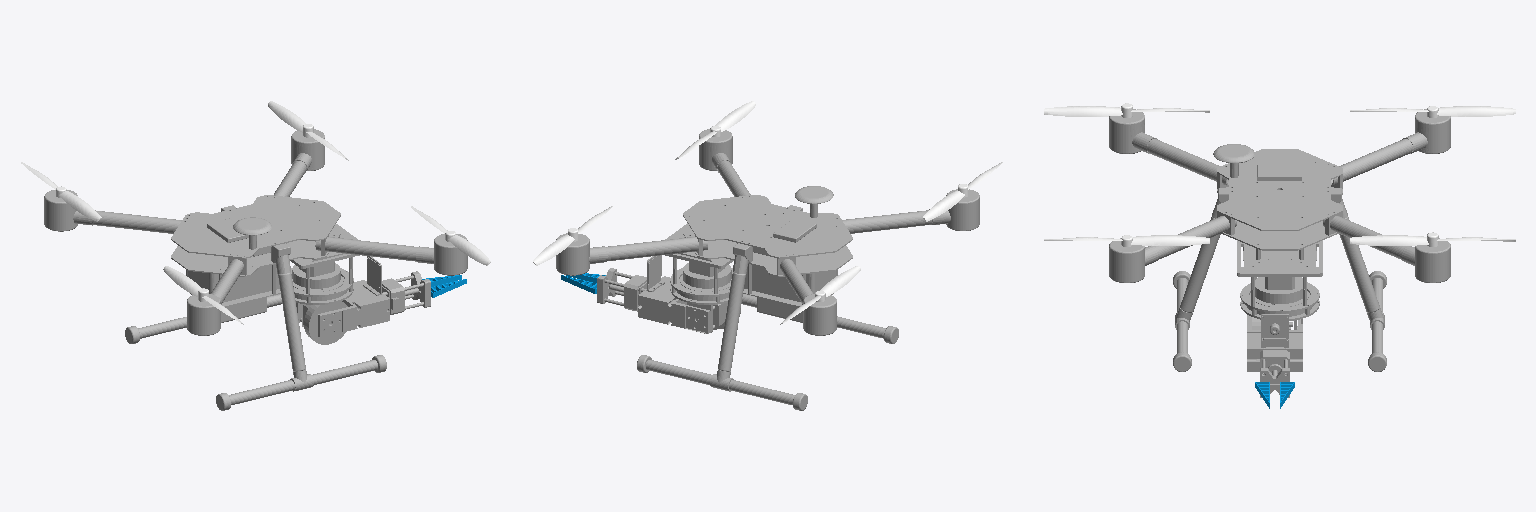
The robot description file, URDF, robot "uam_v4":
<?xml version="1.0" encoding="utf-8"?>
<!-- This URDF was automatically created by SolidWorks to URDF Exporter! Originally created by Stephen Brawner (brawner@gmail.com) 
     Commit Version: 1.6.0-4-g7f85cfe  Build Version: 1.6.7995.38578
     For more information, please see http://wiki.ros.org/sw_urdf_exporter -->
<robot
  name="uam_v4">
  <link
    name="base_link">
    <inertial>
      <origin
        xyz="0.00974829 -0.00025168 0.14863582"
        rpy="0 0 0" />
      <mass
        value="3.4891734" />
      <inertia
        ixx="0.043079"
        ixy="-0.00014081"
        ixz="0.00104499"
        iyy="0.04976704"
        iyz="0.00015485"
        izz="0.07279102" />
    </inertial>
    <visual>
      <origin
        xyz="0 0 0"
        rpy="0 0 0" />
      <geometry>
        <mesh
          filename="package://uam_v4/meshes/base_link.STL" />
      </geometry>
      <material
        name="">
        <color
          rgba="0.752941176470588 0.752941176470588 0.752941176470588 1" />
      </material>
    </visual>
    <collision>
      <origin
        xyz="0 0 0"
        rpy="0 0 0" />
      <geometry>
        <mesh
          filename="package://uam_v4/meshes/base_link.STL" />
      </geometry>
    </collision>
  </link>
  <link
    name="rotor_0">
    <inertial>
      <origin
        xyz="0 0 0.00774541"
        rpy="0 0 0" />
      <mass
        value="0.013" />
      <inertia
        ixx="4.374e-05"
        ixy="-4.7e-07"
        ixz="0"
        iyy="2.6e-07"
        iyz="0"
        izz="4.387e-05" />
    </inertial>
    <visual>
      <origin
        xyz="0 0 0"
        rpy="0 0 0" />
      <geometry>
        <mesh
          filename="package://uam_v4/meshes/rotor_0.STL" />
      </geometry>
      <material
        name="">
        <color
          rgba="1 1 1 1" />
      </material>
    </visual>
    <collision>
      <origin
        xyz="0 0 0"
        rpy="0 0 0" />
      <geometry>
        <mesh
          filename="package://uam_v4/meshes/rotor_0.STL" />
      </geometry>
    </collision>
  </link>
  <joint
    name="rotor_0_joint"
    type="continuous">
    <origin
      xyz="0.211683740803308 -0.211683740803383 0.228940602850063"
      rpy="0 0 0" />
    <parent
      link="base_link" />
    <child
      link="rotor_0" />
    <axis
      xyz="0 0 1" />
  </joint>
  <link
    name="rotor_1">
    <inertial>
      <origin
        xyz="0 0 0.00774541"
        rpy="0 0 0" />
      <mass
        value="0.013" />
      <inertia
        ixx="4.374e-05"
        ixy="-4.7e-07"
        ixz="0"
        iyy="2.6e-07"
        iyz="0"
        izz="4.387e-05" />
    </inertial>
    <visual>
      <origin
        xyz="0 0 0"
        rpy="0 0 0" />
      <geometry>
        <mesh
          filename="package://uam_v4/meshes/rotor_1.STL" />
      </geometry>
      <material
        name="">
        <color
          rgba="1 1 1 1" />
      </material>
    </visual>
    <collision>
      <origin
        xyz="0 0 0"
        rpy="0 0 0" />
      <geometry>
        <mesh
          filename="package://uam_v4/meshes/rotor_1.STL" />
      </geometry>
    </collision>
  </link>
  <joint
    name="rotor_1_joint"
    type="continuous">
    <origin
      xyz="-0.21168374080335 0.211683740803422 0.228940602850063"
      rpy="0 0 0" />
    <parent
      link="base_link" />
    <child
      link="rotor_1" />
    <axis
      xyz="0 0 1" />
  </joint>
  <link
    name="rotor_2">
    <inertial>
      <origin
        xyz="0 0 0.00794549"
        rpy="0 0 0" />
      <mass
        value="0.013" />
      <inertia
        ixx="4.274e-05"
        ixy="4.8e-07"
        ixz="0"
        iyy="2.8e-07"
        iyz="0"
        izz="4.286e-05" />
    </inertial>
    <visual>
      <origin
        xyz="0 0 0"
        rpy="0 0 0" />
      <geometry>
        <mesh
          filename="package://uam_v4/meshes/rotor_2.STL" />
      </geometry>
      <material
        name="">
        <color
          rgba="1 1 1 1" />
      </material>
    </visual>
    <collision>
      <origin
        xyz="0 0 0"
        rpy="0 0 0" />
      <geometry>
        <mesh
          filename="package://uam_v4/meshes/rotor_2.STL" />
      </geometry>
    </collision>
  </link>
  <joint
    name="rotor_2_joint"
    type="continuous">
    <origin
      xyz="0.211683740803408 0.211683740803337 0.228940602850063"
      rpy="0 0 0" />
    <parent
      link="base_link" />
    <child
      link="rotor_2" />
    <axis
      xyz="0 0 1" />
  </joint>
  <link
    name="rotor_3">
    <inertial>
      <origin
        xyz="0 0 0.00794549"
        rpy="0 0 0" />
      <mass
        value="0.013" />
      <inertia
        ixx="4.274e-05"
        ixy="4.8e-07"
        ixz="0"
        iyy="2.8e-07"
        iyz="0"
        izz="4.286e-05" />
    </inertial>
    <visual>
      <origin
        xyz="0 0 0"
        rpy="0 0 0" />
      <geometry>
        <mesh
          filename="package://uam_v4/meshes/rotor_3.STL" />
      </geometry>
      <material
        name="">
        <color
          rgba="1 1 1 1" />
      </material>
    </visual>
    <collision>
      <origin
        xyz="0 0 0"
        rpy="0 0 0" />
      <geometry>
        <mesh
          filename="package://uam_v4/meshes/rotor_3.STL" />
      </geometry>
    </collision>
  </link>
  <joint
    name="rotor_3_joint"
    type="continuous">
    <origin
      xyz="-0.211683740803383 -0.211683740803297 0.228940602850063"
      rpy="0 0 0" />
    <parent
      link="base_link" />
    <child
      link="rotor_3" />
    <axis
      xyz="0 0 1" />
  </joint>
  <link
    name="arm_link1">
    <inertial>
      <origin
        xyz="5.432e-05 0.0085306 0.03916253"
        rpy="0 0 0" />
      <mass
        value="0.22527292" />
      <inertia
        ixx="0.00020971"
        ixy="5e-08"
        ixz="-1.7e-07"
        iyy="0.00019995"
        iyz="-2.66e-05"
        izz="0.0001501" />
    </inertial>
    <visual>
      <origin
        xyz="0 0 0"
        rpy="0 0 0" />
      <geometry>
        <mesh
          filename="package://uam_v4/meshes/arm_link1.STL" />
      </geometry>
      <material
        name="">
        <color
          rgba="0.752941176470588 0.752941176470588 0.752941176470588 1" />
      </material>
    </visual>
    <collision>
      <origin
        xyz="0 0 0"
        rpy="0 0 0" />
      <geometry>
        <mesh
          filename="package://uam_v4/meshes/arm_link1.STL" />
      </geometry>
    </collision>
  </link>
  <joint
    name="arm_joint1"
    type="continuous">
    <origin
      xyz="0.103999999999998 0 0.101940602850063"
      rpy="3.14159265358979 0 0" />
    <parent
      link="base_link" />
    <child
      link="arm_link1" />
    <axis
      xyz="0 0 1" />
  </joint>
  <link
    name="arm_link2">
    <inertial>
      <origin
        xyz="0.08975405 -3.994e-05 0.00717595"
        rpy="0 0 0" />
      <mass
        value="0.30418087" />
      <inertia
        ixx="0.00016138"
        ixy="1.6e-07"
        ixz="-1.36e-06"
        iyy="0.00060537"
        iyz="-3e-08"
        izz="0.00051523" />
    </inertial>
    <visual>
      <origin
        xyz="0 0 0"
        rpy="0 0 0" />
      <geometry>
        <mesh
          filename="package://uam_v4/meshes/arm_link2.STL" />
      </geometry>
      <material
        name="">
        <color
          rgba="0.752941176470588 0.752941176470588 0.752941176470588 1" />
      </material>
    </visual>
    <collision>
      <origin
        xyz="0 0 0"
        rpy="0 0 0" />
      <geometry>
        <mesh
          filename="package://uam_v4/meshes/arm_link2.STL" />
      </geometry>
    </collision>
  </link>
  <joint
    name="arm_joint2"
    type="continuous">
    <origin
      xyz="0 0 0.0529999999999987"
      rpy="-1.5707963267949 0 0" />
    <parent
      link="arm_link1" />
    <child
      link="arm_link2" />
    <axis
      xyz="0 0 1" />
  </joint>
  <link
    name="left_hand_link">
    <inertial>
      <origin
        xyz="0.02582393 -0.001  -0.00633685"
        rpy="0 0 0" />
      <mass
        value="0.00272625" />
      <inertia
        ixx="9e-08"
        ixy="0"
        ixz="-1.2e-07"
        iyy="9.2e-07"
        iyz="0"
        izz="8.6e-07" />
    </inertial>
    <visual>
      <origin
        xyz="0 0 0"
        rpy="0 0 0" />
      <geometry>
        <mesh
          filename="package://uam_v4/meshes/left_hand_link.STL" />
      </geometry>
      <material
        name="">
        <color
          rgba="0.0588235294117647 0.705882352941176 1 1" />
      </material>
    </visual>
    <collision>
      <origin
        xyz="0 0 0"
        rpy="0 0 0" />
      <geometry>
        <mesh
          filename="package://uam_v4/meshes/left_hand_link.STL" />
      </geometry>
    </collision>
  </link>
  <joint
    name="left_hand_joint"
    type="prismatic">
    <origin
      xyz="0.18 0.001 -0.0005"
      rpy="0 0 0" />
    <parent
      link="arm_link2" />
    <child
      link="left_hand_link" />
    <axis
      xyz="0 0 1" />
    <limit
      lower="-0.01"
      upper="0.01"
      effort="0"
      velocity="0" />
    <mimic
      joint="right_hand_joint"
      multiplier="-1"
      offset="0" />
  </joint>
  <link
    name="right_hand_link">
    <inertial>
      <origin
        xyz="0.02582393 -0.001 0.00633685"
        rpy="0 0 0" />
      <mass
        value="0.00272625" />
      <inertia
        ixx="9e-08"
        ixy="0"
        ixz="1.2e-07"
        iyy="9.2e-07"
        iyz="0"
        izz="8.6e-07" />
    </inertial>
    <visual>
      <origin
        xyz="0 0 0"
        rpy="0 0 0" />
      <geometry>
        <mesh
          filename="package://uam_v4/meshes/right_hand_link.STL" />
      </geometry>
      <material
        name="">
        <color
          rgba="0.0588235294117647 0.705882352941176 1 1" />
      </material>
    </visual>
    <collision>
      <origin
        xyz="0 0 0"
        rpy="0 0 0" />
      <geometry>
        <mesh
          filename="package://uam_v4/meshes/right_hand_link.STL" />
      </geometry>
    </collision>
  </link>
  <joint
    name="right_hand_joint"
    type="prismatic">
    <origin
      xyz="0.18 0.001 0.0145"
      rpy="0 0 0" />
    <parent
      link="arm_link2" />
    <child
      link="right_hand_link" />
    <axis
      xyz="0 0 1" />
    <limit
      lower="-0.01"
      upper="0.01"
      effort="0"
      velocity="0" />
  </joint>
  <link
    name="camera_link">
    <inertial>
      <origin
        xyz="0.00519631 0.02313883 0.00013606"
        rpy="0 0 0" />
      <mass
        value="0.0053179" />
      <inertia
        ixx="1.71e-06"
        ixy="-7e-08"
        ixz="0"
        iyy="6.4e-07"
        iyz="0"
        izz="1.17e-06" />
    </inertial>
    <visual>
      <origin
        xyz="0 0 0"
        rpy="0 0 0" />
      <geometry>
        <mesh
          filename="package://uam_v4/meshes/camera_link.STL" />
      </geometry>
      <material
        name="">
        <color
          rgba="0.752941176470588 0.752941176470588 0.752941176470588 1" />
      </material>
    </visual>
    <collision>
      <origin
        xyz="0 0 0"
        rpy="0 0 0" />
      <geometry>
        <mesh
          filename="package://uam_v4/meshes/camera_link.STL" />
      </geometry>
    </collision>
  </link>
  <joint
    name="camera_joint"
    type="fixed">
    <origin
      xyz="0.09 0.018 0.007"
      rpy="0 0 0" />
    <parent
      link="arm_link2" />
    <child
      link="camera_link" />
    <axis
      xyz="0 0 0" />
  </joint>
</robot>

--- Facts derived from the render (not from the file) ---
3 views of the same robot in one strip: view 1: azimuth 30°, elevation 25°; view 2: azimuth 150°, elevation 25°; view 3: azimuth 270°, elevation 25° (orthographic).
Model uam_v4 with 10 links and 9 joints (6 continuous, 2 prismatic, 1 fixed), rooted at base_link, posed all joints at 0.
Links seen in each view (by area): view 1: base_link, arm_link2, arm_link1, rotor_2, rotor_0, rotor_3, rotor_1, camera_link; view 2: base_link, arm_link2, arm_link1, rotor_2, rotor_3, rotor_0, rotor_1; view 3: base_link, arm_link2, rotor_3, rotor_2, rotor_1, rotor_0, camera_link.
Boxes of the visible links, <box> form: base_link: <box>44,129,467,410</box>; arm_link2: <box>318,271,430,337</box>; arm_link1: <box>292,276,347,344</box>; rotor_2: <box>268,101,348,160</box>; rotor_0: <box>411,206,490,265</box>; rotor_3: <box>163,266,243,324</box>; rotor_1: <box>21,162,101,221</box>; camera_link: <box>363,256,381,295</box>; base_link: <box>556,129,979,410</box>; arm_link2: <box>597,268,710,333</box>; arm_link1: <box>676,275,740,332</box>; rotor_2: <box>533,206,612,265</box>; rotor_3: <box>923,162,1002,221</box>; rotor_0: <box>675,101,755,159</box>; rotor_1: <box>780,266,860,324</box>; base_link: <box>1109,109,1450,371</box>; arm_link2: <box>1247,315,1302,397</box>; rotor_3: <box>1044,103,1209,117</box>; rotor_2: <box>1350,232,1515,246</box>; rotor_1: <box>1350,106,1515,117</box>; rotor_0: <box>1044,235,1209,246</box>; camera_link: <box>1261,314,1288,346</box>.
Bounding box of the posed robot: 0.5907 × 0.6524 × 0.2543 m (x, y, z).
10 mesh visuals loaded from 10 distinct referenced files (10 binary STL).
